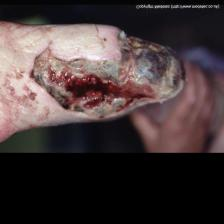Wound: (28, 26, 189, 120)
